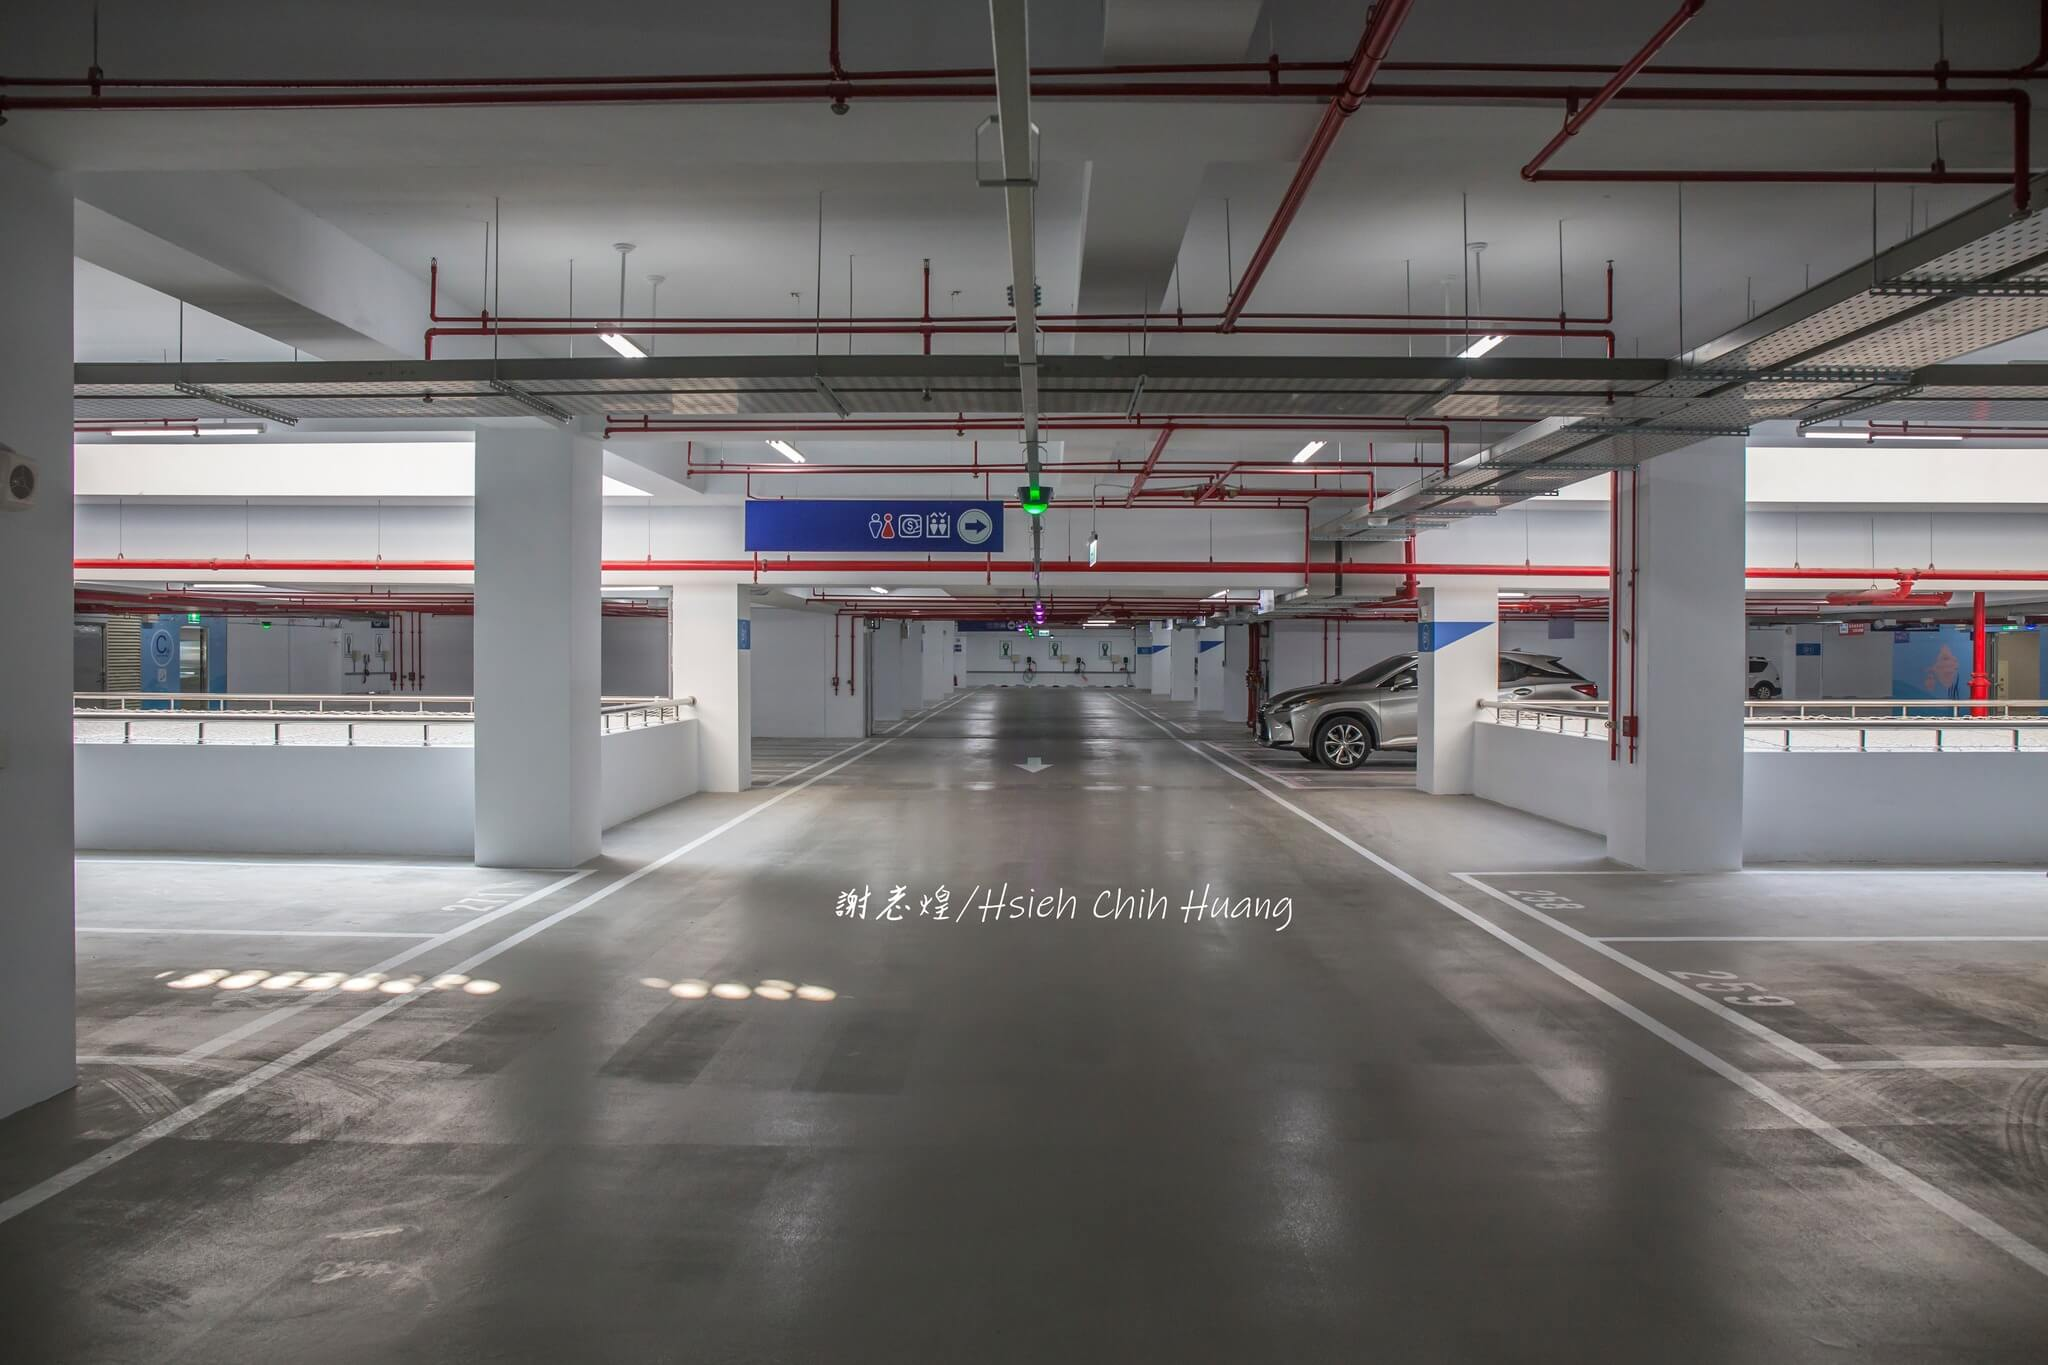car: (1255, 637, 1418, 775), (1498, 641, 1599, 701), (1751, 643, 1780, 699)
